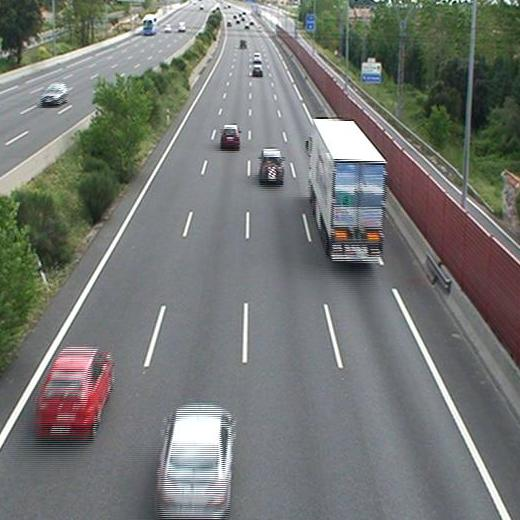car: (158, 406, 234, 512), (39, 347, 111, 427), (259, 150, 284, 180), (221, 125, 240, 148), (251, 65, 263, 76), (252, 53, 262, 62), (239, 39, 248, 49)
truck: (310, 119, 385, 262)
